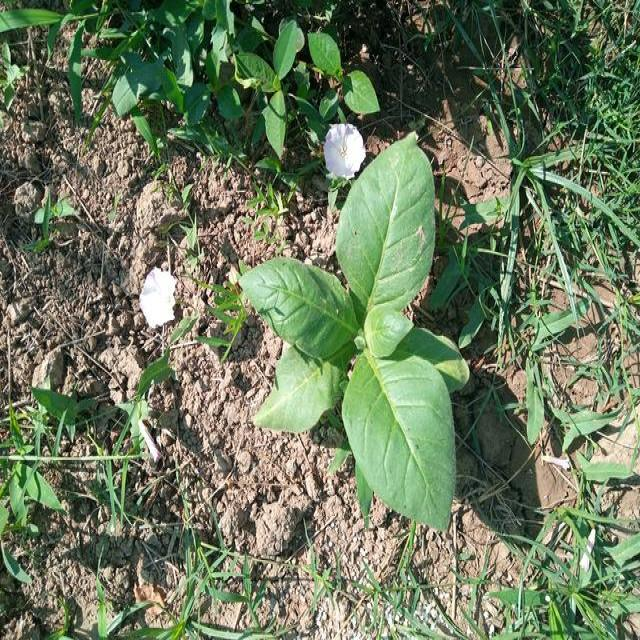crop: (257, 136, 464, 533)
